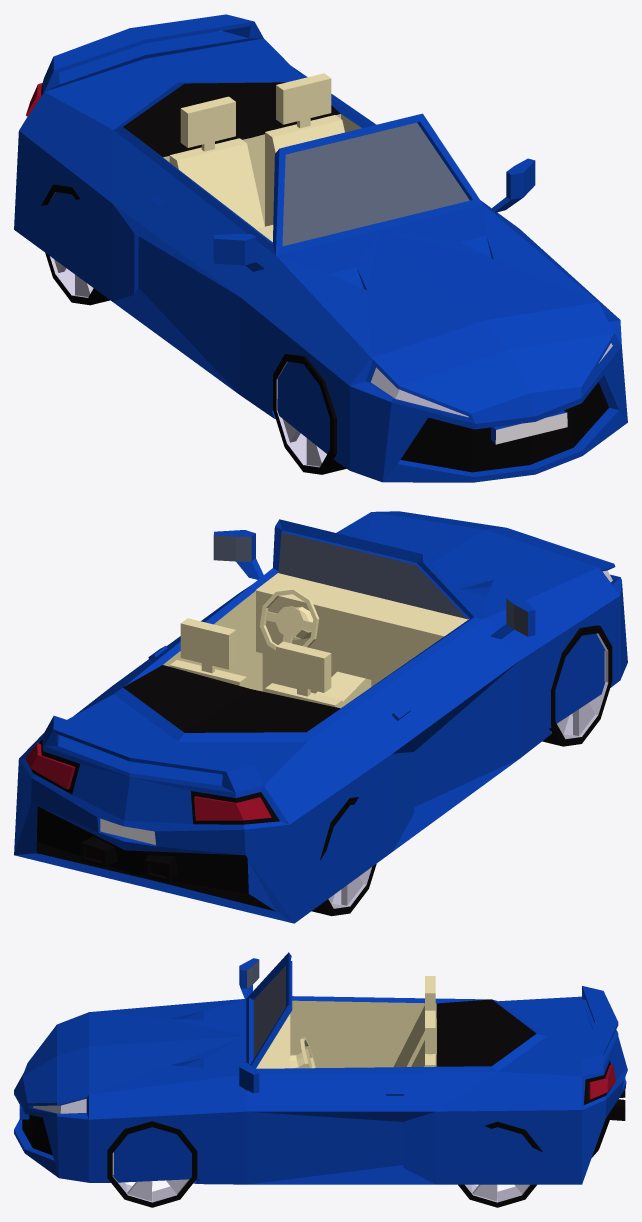
The model's file is roadster.glb.
The picture shows the model from 3 angles, top to bottom: view 1: azimuth 30°, elevation 25°; view 2: azimuth 150°, elevation 25°; view 3: azimuth 270°, elevation 25°; orthographic projection. The views are drawn at different scales.
Visible parts, largest first — view 1: roadster; view 2: roadster; view 3: roadster.
Part boxes in pixels (bbox=[...]): roadster: bbox=[14, 14, 627, 482]; roadster: bbox=[14, 511, 627, 923]; roadster: bbox=[14, 952, 627, 1207].
Size of the model in its own units: 1.8 by 1.29 by 4.
